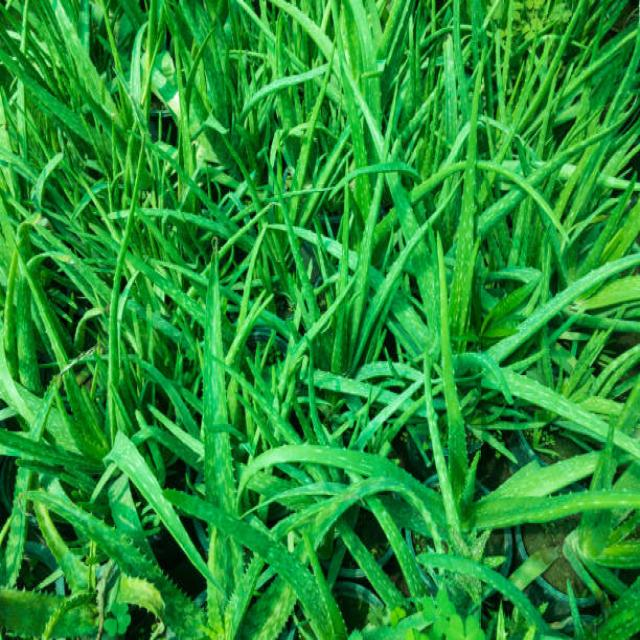AloeVera: (39, 35, 640, 603)
